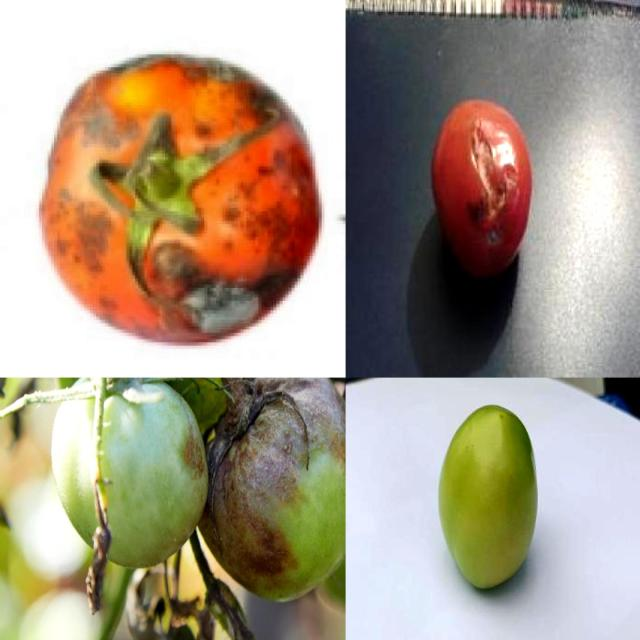Rotten_Tomato: (32, 44, 327, 350), (198, 378, 346, 616), (426, 93, 539, 288)
